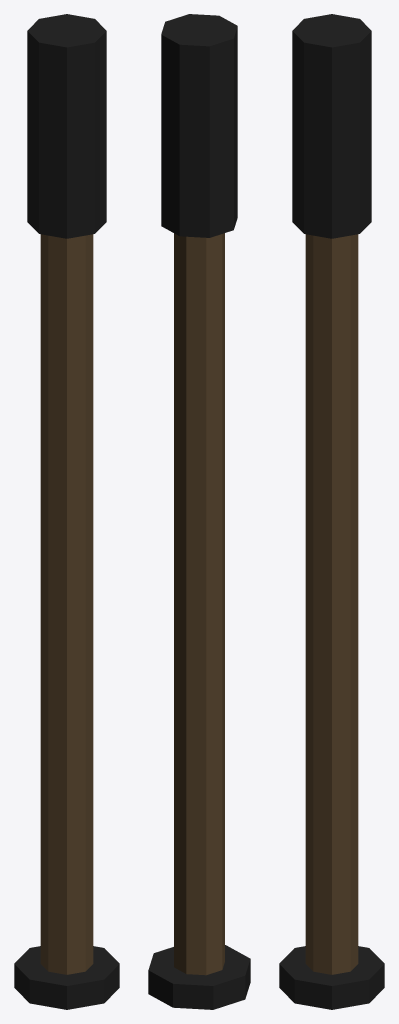
Rendered from barrier-pole.fbx.
3 views of the same model, side by side, from view 1: azimuth 90°, elevation 25°; view 2: azimuth 150°, elevation 25°; view 3: azimuth 270°, elevation 25° (orthographic).
Visible parts, largest first — view 1: pole, pole-top, pole-base; view 2: pole, pole-top, pole-base; view 3: pole, pole-top, pole-base.
Part boxes in pixels (x1,y1,x2,y2): pole: [40, 234, 93, 974]; pole-top: [27, 14, 106, 238]; pole-base: [14, 946, 119, 1009]; pole: [174, 233, 224, 975]; pole-top: [161, 14, 237, 237]; pole-base: [148, 945, 250, 1009]; pole: [305, 234, 358, 974]; pole-top: [292, 14, 371, 238]; pole-base: [279, 946, 384, 1009].
Bounding box in the file's own units: 50 × 500 × 50.
